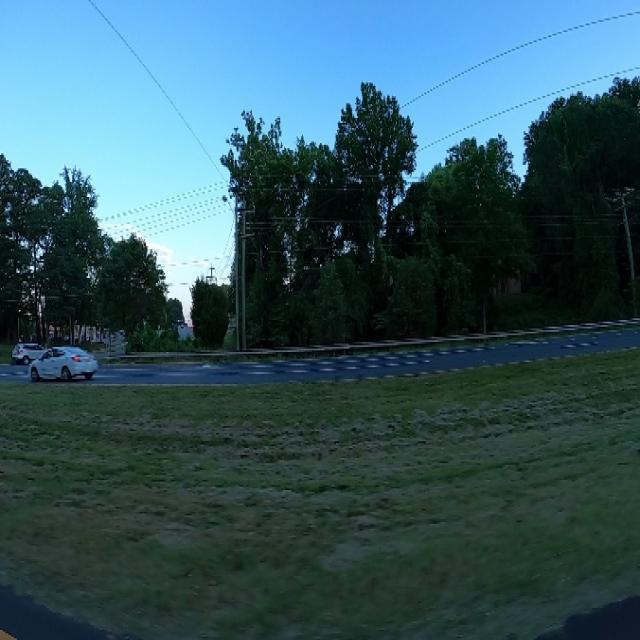cars: (28, 338, 95, 389), (11, 331, 48, 368)
